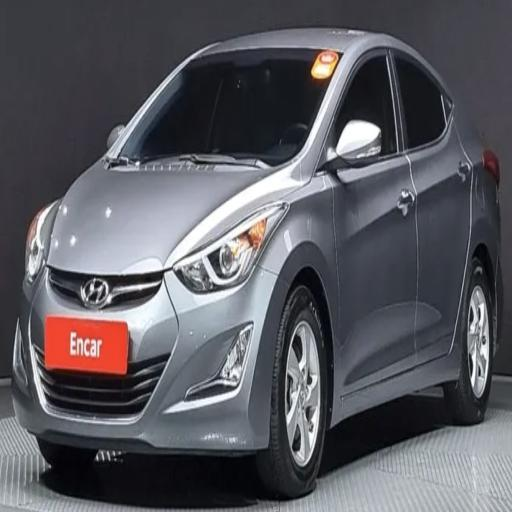normal: (14, 18, 506, 504)
